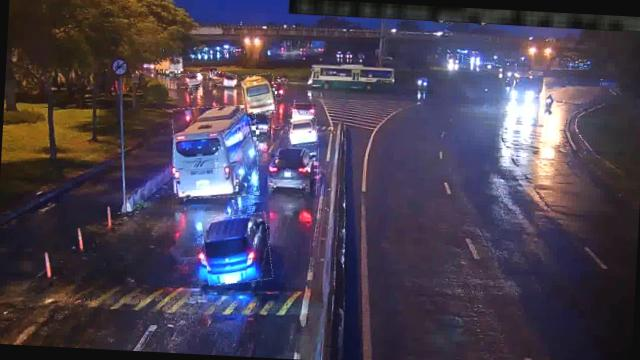Bus: (170, 102, 261, 200), (240, 72, 277, 115)
Car: (200, 211, 273, 286), (264, 144, 318, 194), (287, 116, 318, 146), (174, 72, 202, 88), (210, 72, 236, 86)
